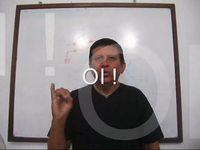oi: (49, 81, 76, 122)
